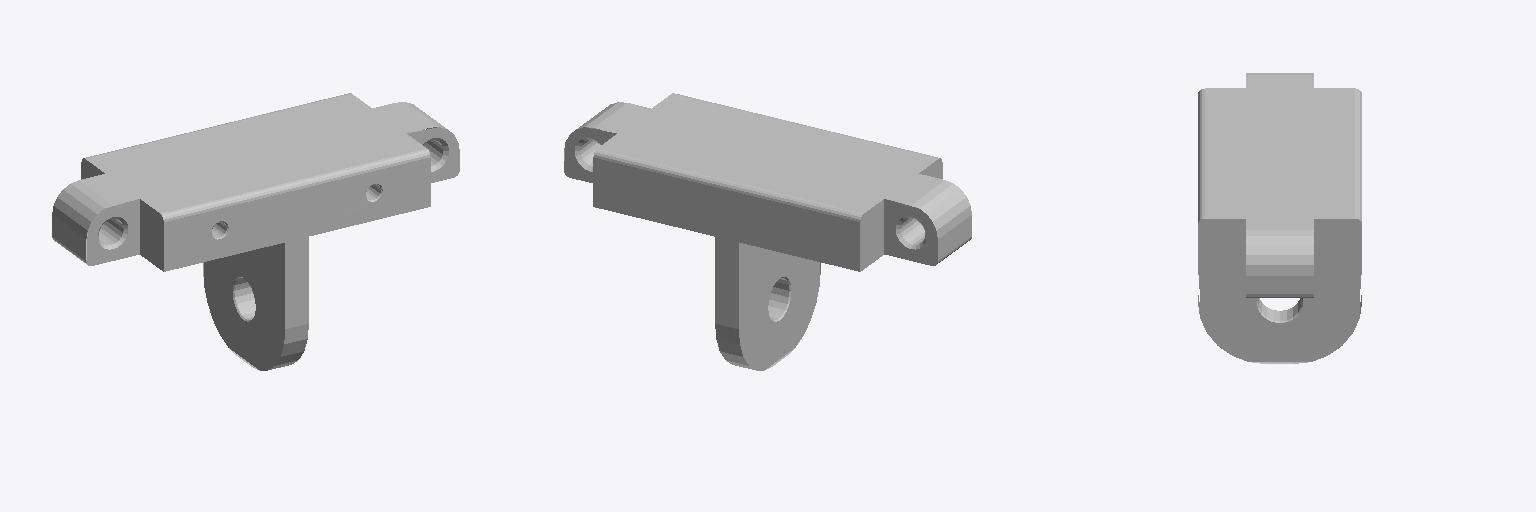
Rendered from handr_finger_pinky1_joint.obj.
3 views of the same model, side by side, from view 1: azimuth 30°, elevation 25°; view 2: azimuth 150°, elevation 25°; view 3: azimuth 270°, elevation 25° (orthographic).
Bounding box in the file's own units: 0.0315 × 0.0165 × 0.012.